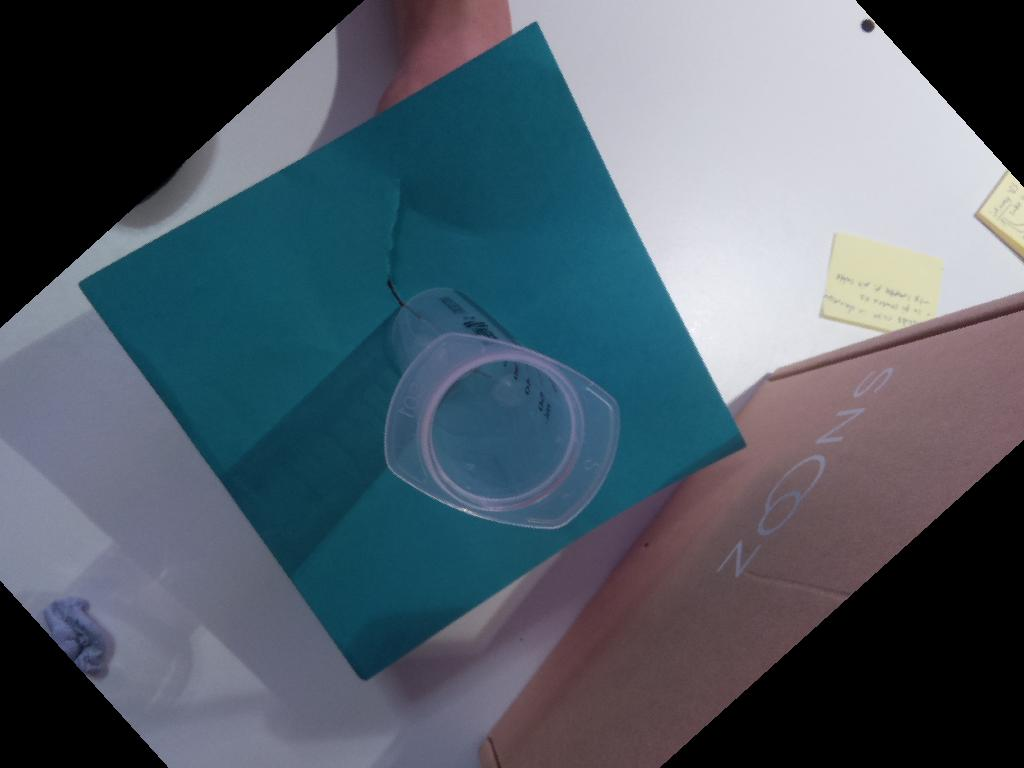clean: (382, 330, 620, 534)
